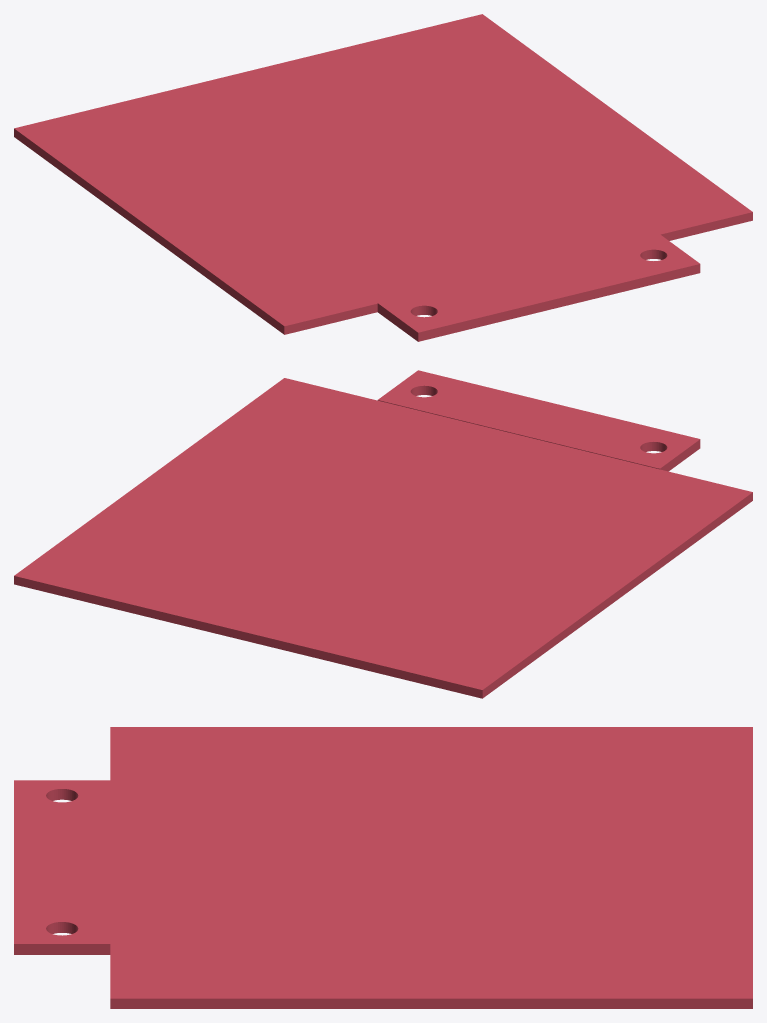
The model's file is tag_holder.glb.
3 renders of one model, top to bottom at view 1: azimuth 30°, elevation 25°; view 2: azimuth 150°, elevation 25°; view 3: azimuth 270°, elevation 25°, orthographic. The views are drawn at different scales.
Visible parts, largest first — view 1: Mesh_Mesh_head_geo.001_lambert2SG.001; view 2: Mesh_Mesh_head_geo.001_lambert2SG.001; view 3: Mesh_Mesh_head_geo.001_lambert2SG.001.
Part boxes in pixels (<box>): Mesh_Mesh_head_geo.001_lambert2SG.001: <box>14,14,752,341</box>; Mesh_Mesh_head_geo.001_lambert2SG.001: <box>14,370,752,698</box>; Mesh_Mesh_head_geo.001_lambert2SG.001: <box>14,727,752,1008</box>.
Size of the model in its own units: 0.08 by 0.0015 by 0.092.
